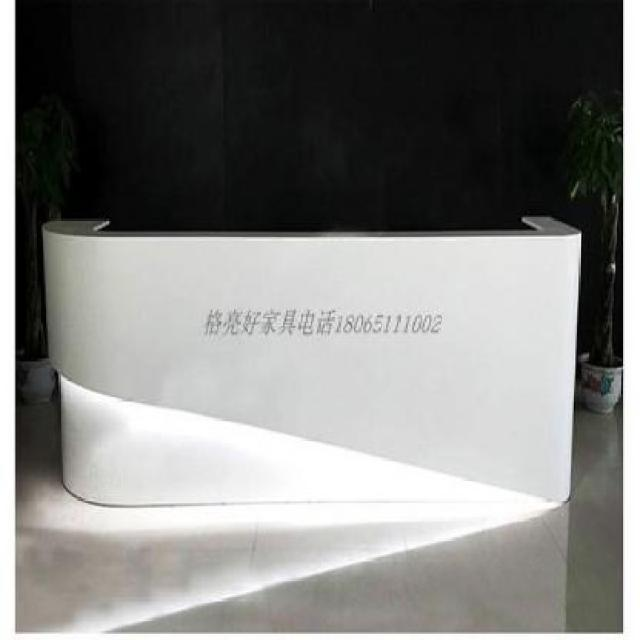frontdesk: (37, 188, 587, 524)
